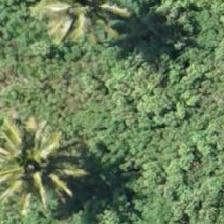coconut_tree: (0, 120, 60, 210), (40, 0, 130, 46)
